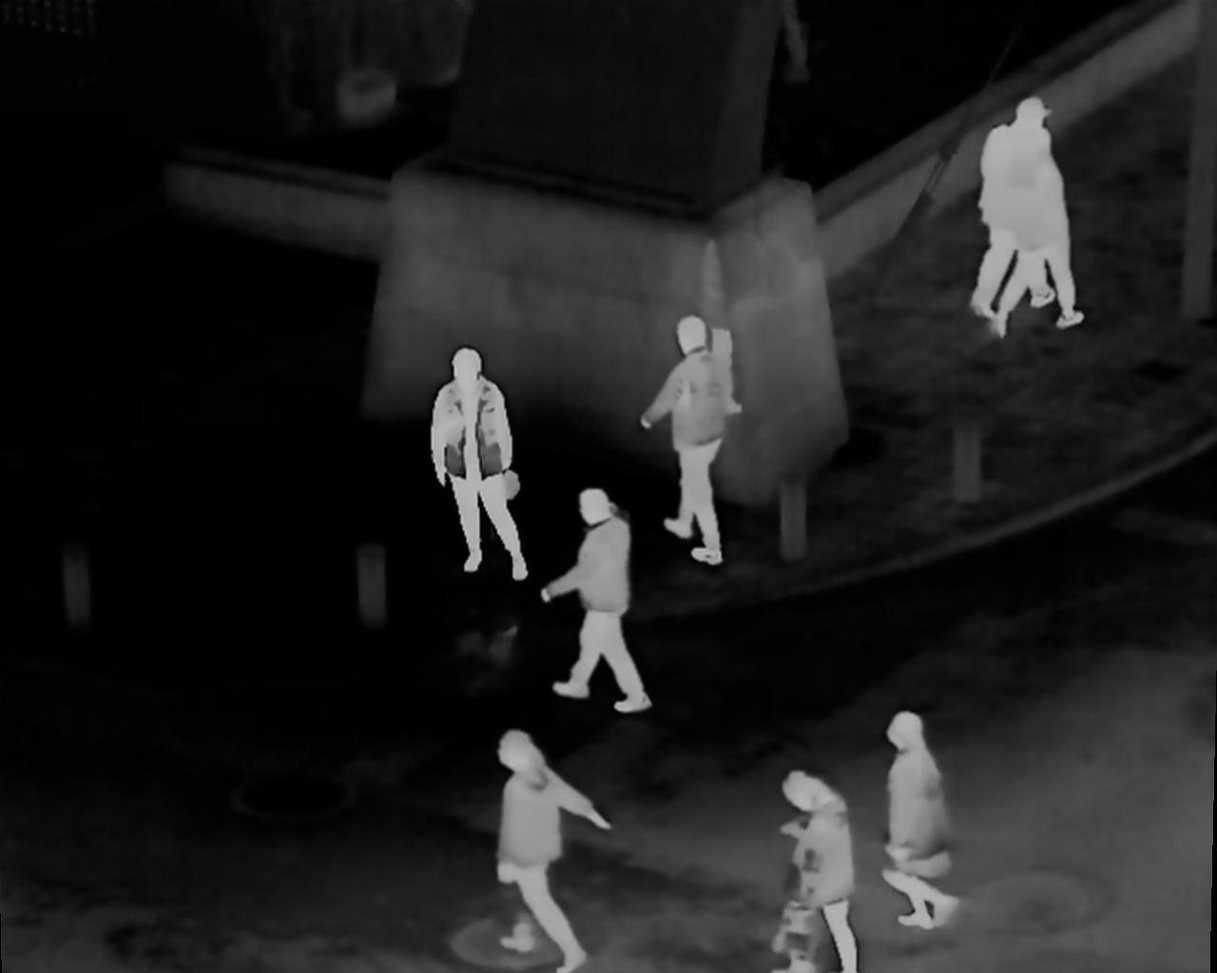person: (489, 731, 620, 973), (429, 345, 532, 579), (650, 310, 741, 569), (546, 493, 645, 700), (990, 128, 1083, 336), (971, 95, 1058, 316), (771, 766, 859, 970), (887, 713, 956, 927)
